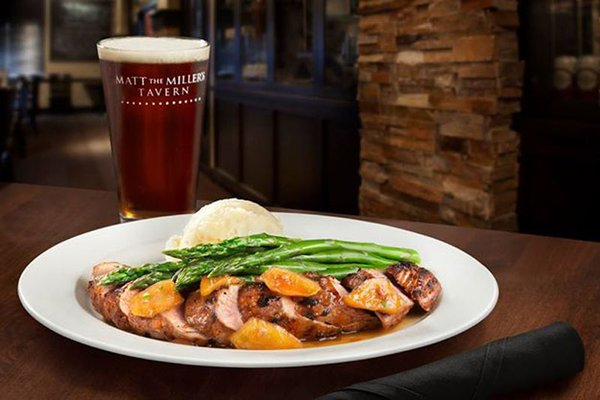pizza: (96, 34, 210, 222)
